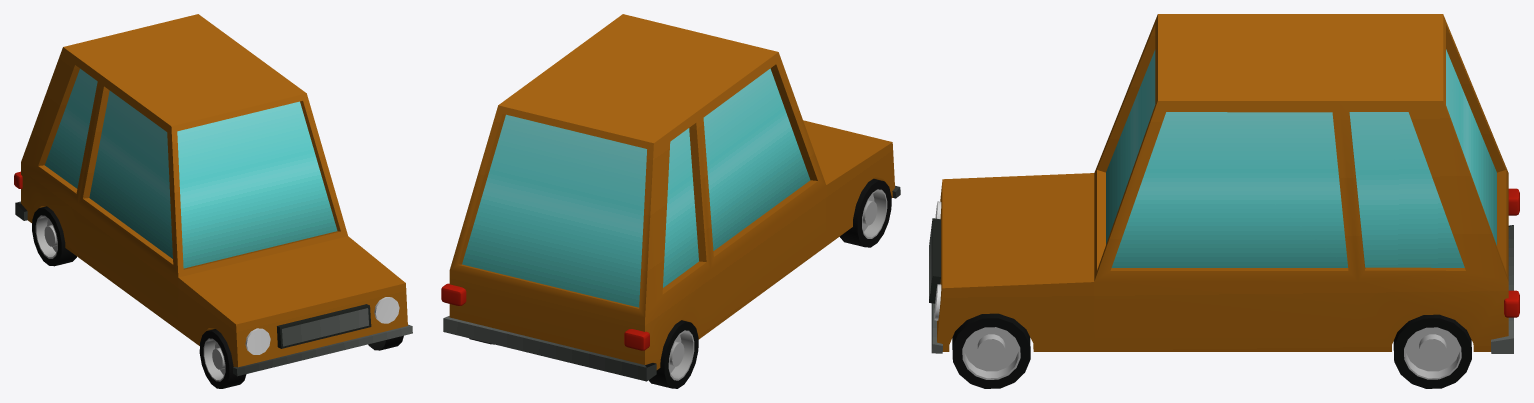
The model's file is SM_Car_Brown.fbx.
3 renders of one model, left to right at view 1: azimuth 30°, elevation 25°; view 2: azimuth 150°, elevation 25°; view 3: azimuth 270°, elevation 25°, orthographic. The views are drawn at different scales.
Parts seen in each view (by area): view 1: Car, Wheels, Grate, Headlights; view 2: Car, Wheels, Break_Lights; view 3: Car, Wheels, Grate, Break_Lights.
Boxes of the visible parts, left/top/right/bottom form: Car: left=15, top=14, right=412, bottom=376; Wheels: left=32, top=206, right=403, bottom=388; Grate: left=277, top=304, right=371, bottom=348; Headlights: left=245, top=297, right=399, bottom=354; Car: left=443, top=14, right=900, bottom=381; Wheels: left=469, top=178, right=891, bottom=388; Break_Lights: left=441, top=283, right=649, bottom=350; Car: left=931, top=14, right=1513, bottom=353; Wheels: left=952, top=313, right=1471, bottom=388; Grate: left=929, top=218, right=940, bottom=303; Break_Lights: left=1504, top=188, right=1519, bottom=317.
Size of the model in its own units: 253 by 284 by 553.
Materials: 1 (1 with a texture image).
